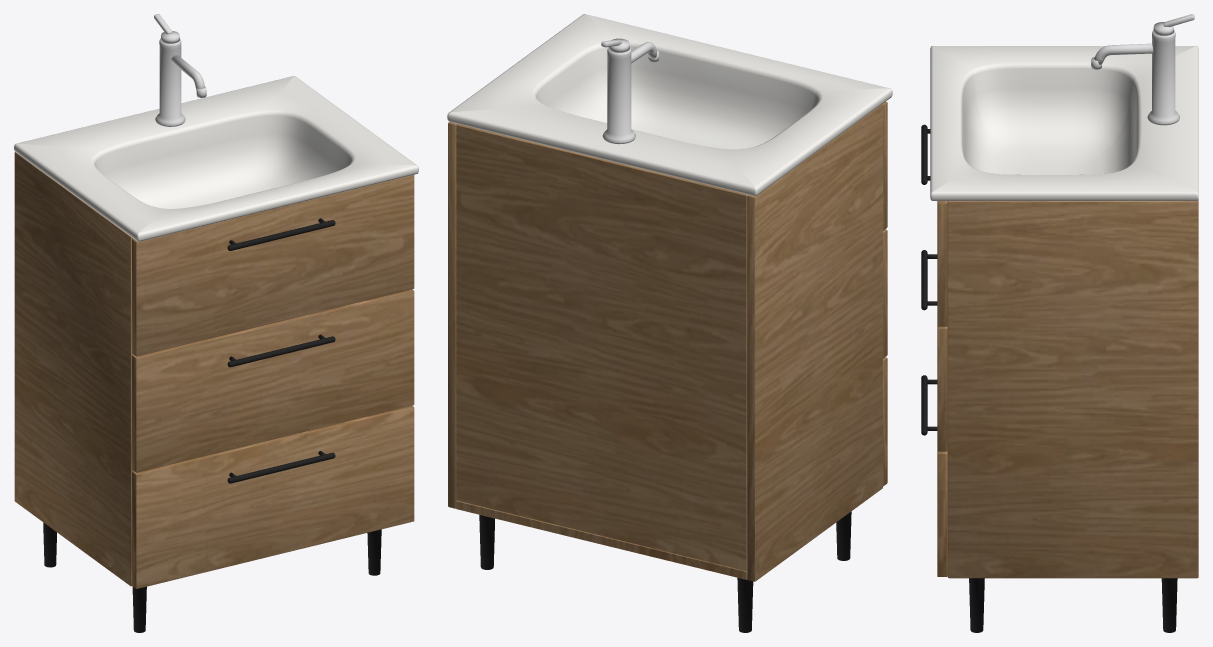
File: mueble_lavabo_suelo_60.glb
3 renders of one model, left to right at view 1: azimuth 30°, elevation 25°; view 2: azimuth 150°, elevation 25°; view 3: azimuth 270°, elevation 25°, orthographic. The views are drawn at different scales.
Visible parts, largest first — view 1: mueble_lavabo_suelo_60; view 2: mueble_lavabo_suelo_60; view 3: mueble_lavabo_suelo_60.
Boxes of the visible parts, x1=… form: mueble_lavabo_suelo_60: x1=14, y1=14, x2=418, y2=632; mueble_lavabo_suelo_60: x1=447, y1=14, x2=892, y2=632; mueble_lavabo_suelo_60: x1=921, y1=14, x2=1198, y2=632.
Size of the model in its own units: 0.6 by 1.05 by 0.4755.
Materials: 4 (1 with a texture image).
